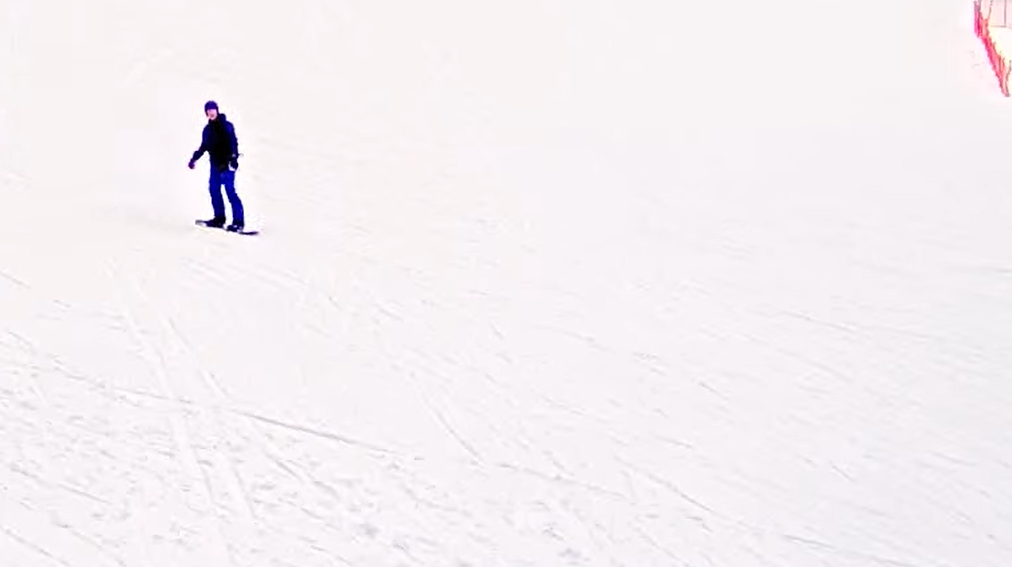snowboarder: (186, 98, 259, 237)
